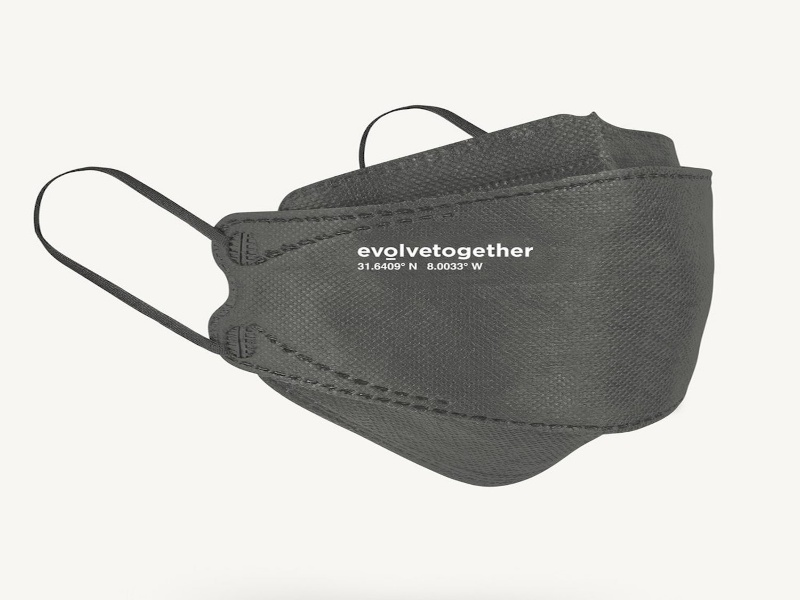mask: (206, 112, 721, 491)
